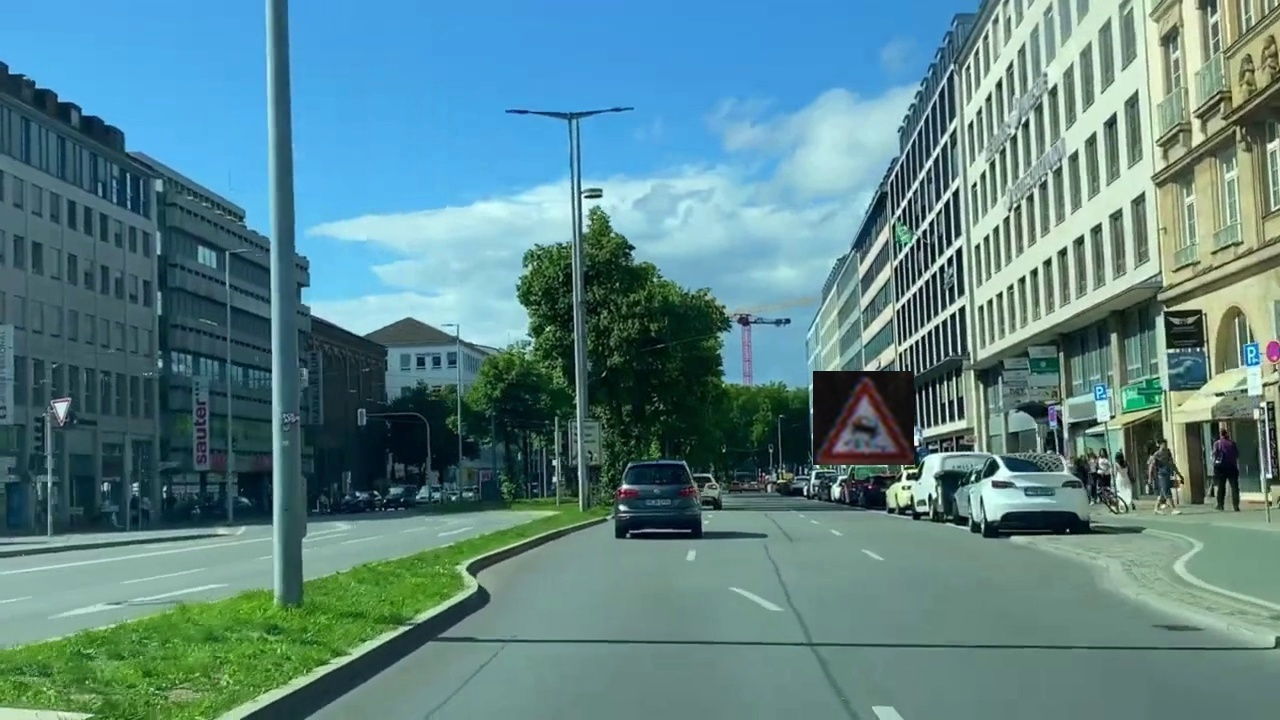Slippery: (813, 371, 914, 465)
